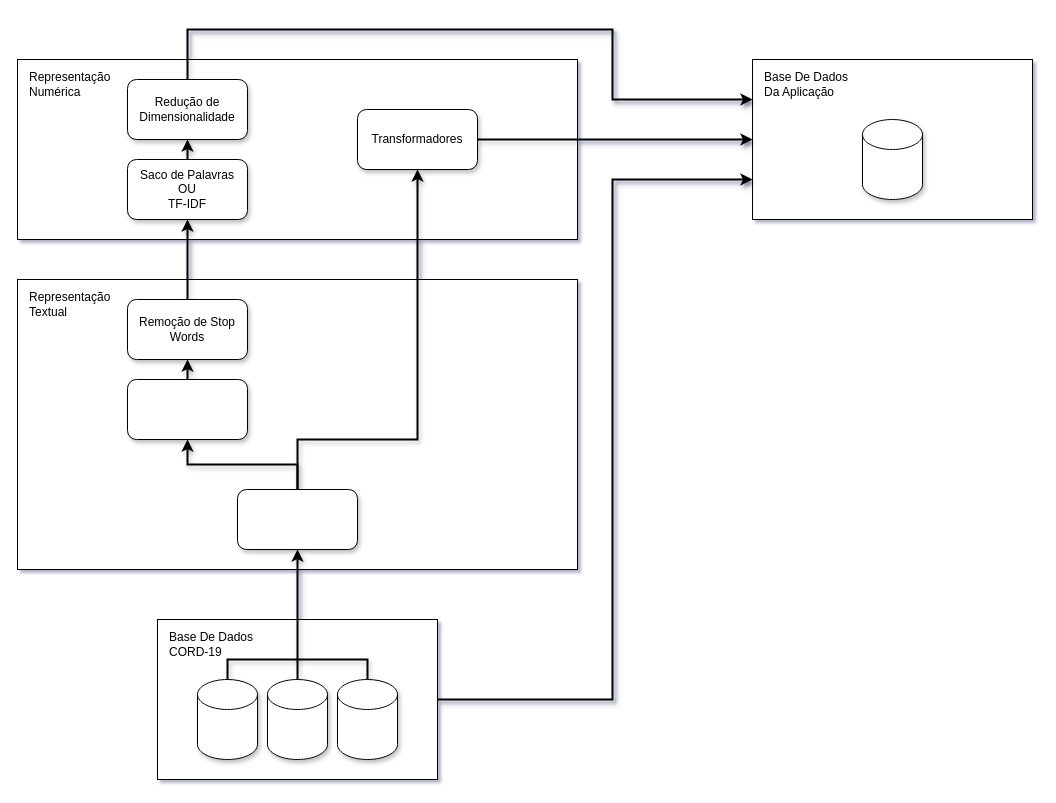
Some shapes in this 1056 by 803 pixel diagram are drawn without their labels. Each missing label, with the centre of its shape:
Remoção de Artefatos e Formatação: the point at 298,520
Tokenização das Cadeias de Caracteres: the point at 188,410
